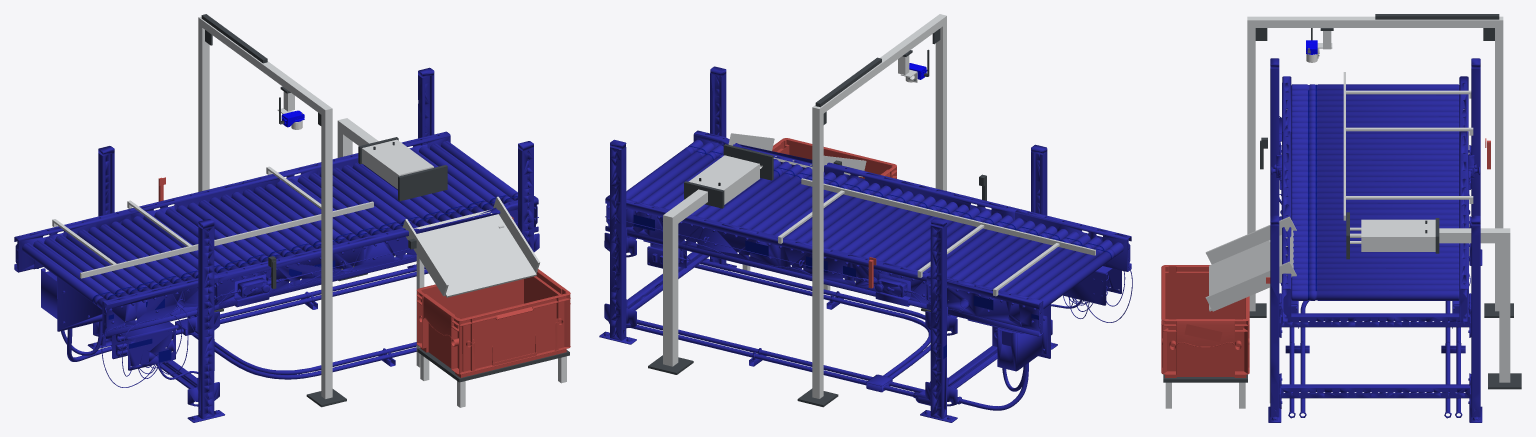
File: station.glb
The picture shows the model from 3 angles, left to right: view 1: azimuth 30°, elevation 25°; view 2: azimuth 150°, elevation 25°; view 3: azimuth 270°, elevation 25°; orthographic projection.
Parts seen in each view (by area): view 1: SM_ConveyorBelt_A08_02, FOF_Mesh_Magenta_Box, Chute, Upright_L, Cylinder_body, Upright_R, Lane_guide_bar, Crossbeam, Paddle, SM_ConveyorBelt_A08_Roller01_02, Guide, SM_ConveyorBelt_A08_Roller30_02 (+38 smaller); view 2: SM_ConveyorBelt_A08_02, Upright_R, Pusher_stand, Upright_L, Lane_guide_bar, Cylinder_body, Crossbeam, FOF_Mesh_Magenta_Box, SM_ConveyorBelt_A08_Decal_02, SM_ConveyorBelt_A08_Roller01_02, Guide, SM_ConveyorBelt_A08_Roller38_02 (+35 smaller); view 3: SM_ConveyorBelt_A08_02, FOF_Mesh_Magenta_Box, Crossbeam, Cylinder_body, Upright_R, Chute, Upright_L, SM_ConveyorBelt_A08_Roller39_02, Guide, Pusher_stand, Chute_wall_1, Chute_wall_0 (+44 smaller).
Boxes of the visible parts, x1,y1,x2,y2 form: SM_ConveyorBelt_A08_02: (14,67,539,422); FOF_Mesh_Magenta_Box: (416,269,570,377); Chute: (413,210,536,297); Upright_L: (321,115,332,398); Cylinder_body: (362,139,433,189); Upright_R: (198,25,209,191); Lane_guide_bar: (80,201,373,278); Crossbeam: (198,16,332,117); Paddle: (398,165,447,201); SM_ConveyorBelt_A08_Roller01_02: (22,243,106,309); Guide: (52,166,321,264); SM_ConveyorBelt_A08_Roller30_02: (341,165,429,226); SM_ConveyorBelt_A08_02: (599,66,1132,422); Upright_R: (812,114,823,398); Pusher_stand: (663,211,678,366); Upright_L: (935,23,946,190); Lane_guide_bar: (801,178,1095,255); Cylinder_body: (688,155,759,204); Crossbeam: (812,14,946,116); FOF_Mesh_Magenta_Box: (772,138,896,178); SM_ConveyorBelt_A08_Decal_02: (633,215,1038,358); SM_ConveyorBelt_A08_Roller01_02: (1039,242,1123,308); Guide: (778,190,1059,296); SM_ConveyorBelt_A08_Roller38_02: (629,142,714,202); SM_ConveyorBelt_A08_02: (1268,58,1482,422); FOF_Mesh_Magenta_Box: (1161,265,1249,377); Crossbeam: (1247,16,1503,27); Cylinder_body: (1361,219,1435,251); Upright_R: (1495,28,1503,311); Chute: (1209,230,1293,311); Upright_L: (1247,28,1255,311); SM_ConveyorBelt_A08_Roller39_02: (1291,290,1459,300); Guide: (1346,90,1473,203); Pusher_stand: (1499,228,1510,382); Chute_wall_1: (1205,261,1296,311); Chute_wall_0: (1205,216,1296,264).
Size of the model in its own units: 2.72 by 1.76 by 1.94.
